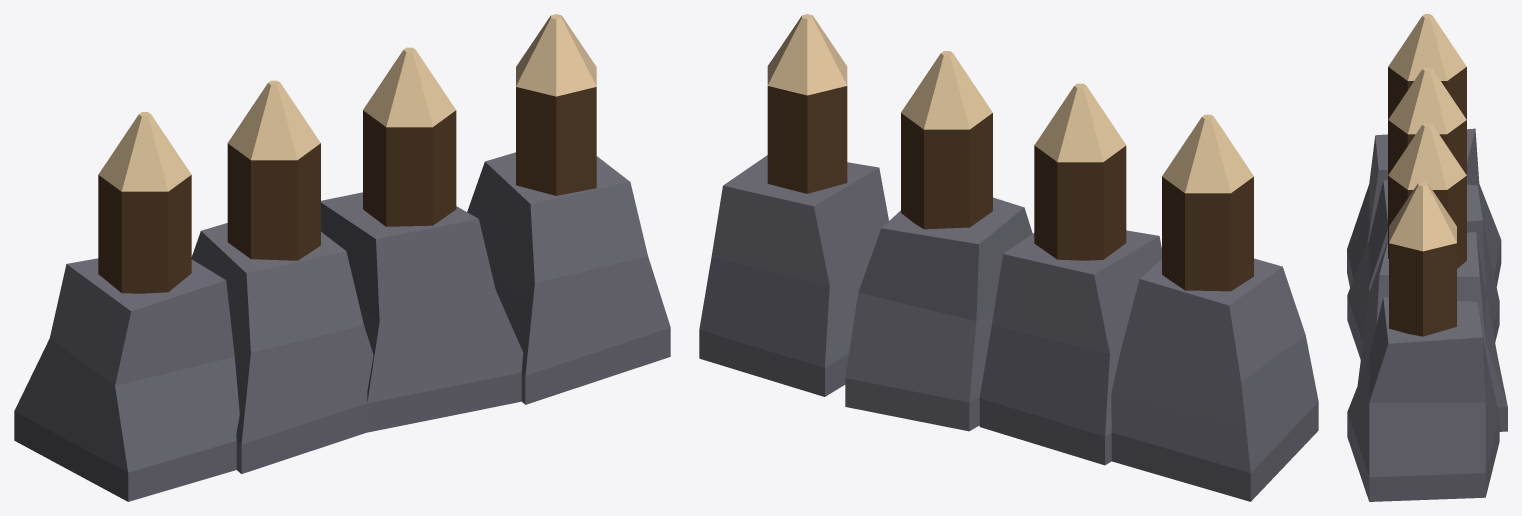
File: ExplodedWoodenWall#2.fbx
3 views of the same model, side by side, from view 1: azimuth 30°, elevation 25°; view 2: azimuth 150°, elevation 25°; view 3: azimuth 270°, elevation 25° (orthographic). The views are drawn at different scales.
Visible parts, largest first — view 1: WoodenWall#2.001, WoodenWall#2.002, WoodenWall#2.003, WoodenWall#2.004; view 2: WoodenWall#2.001, WoodenWall#2.002, WoodenWall#2.003, WoodenWall#2.004; view 3: WoodenWall#2.002, WoodenWall#2.003, WoodenWall#2.004, WoodenWall#2.001.
Part boxes in pixels (x1,y1,x2,y2): WoodenWall#2.001: (14,112,239,501); WoodenWall#2.002: (467,14,670,404); WoodenWall#2.003: (321,47,523,432); WoodenWall#2.004: (191,80,373,473); WoodenWall#2.001: (1111,114,1318,501); WoodenWall#2.002: (699,14,888,396); WoodenWall#2.003: (845,51,1032,431); WoodenWall#2.004: (979,83,1161,465); WoodenWall#2.002: (1347,182,1499,501); WoodenWall#2.003: (1357,122,1507,431); WoodenWall#2.004: (1347,67,1499,359); WoodenWall#2.001: (1347,14,1501,287).
Size of the model in its own units: 1566 by 872 by 447.
